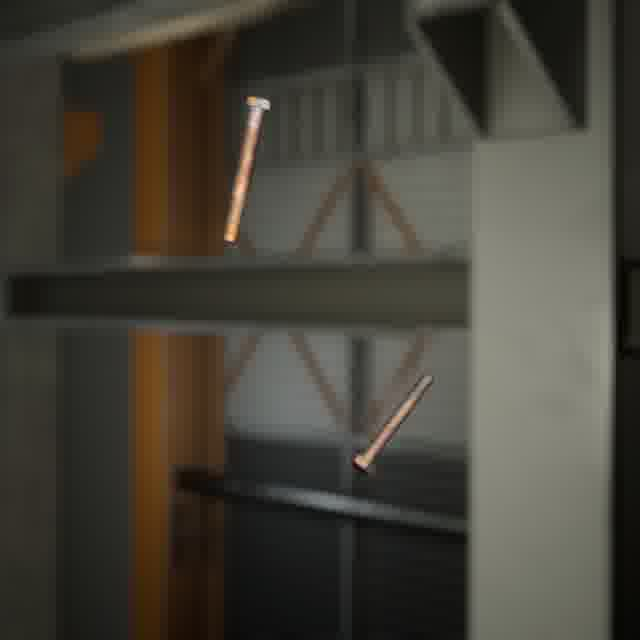bolt: (345, 368, 438, 480), (218, 92, 275, 247)
